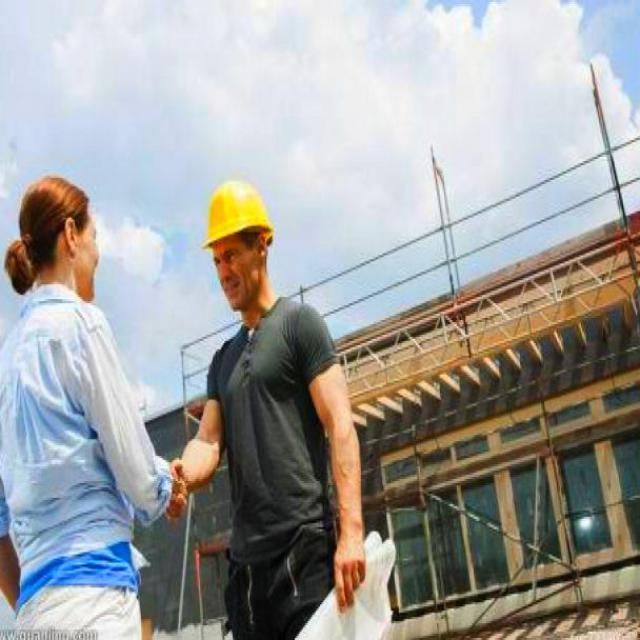helmet: (197, 154, 278, 332)
